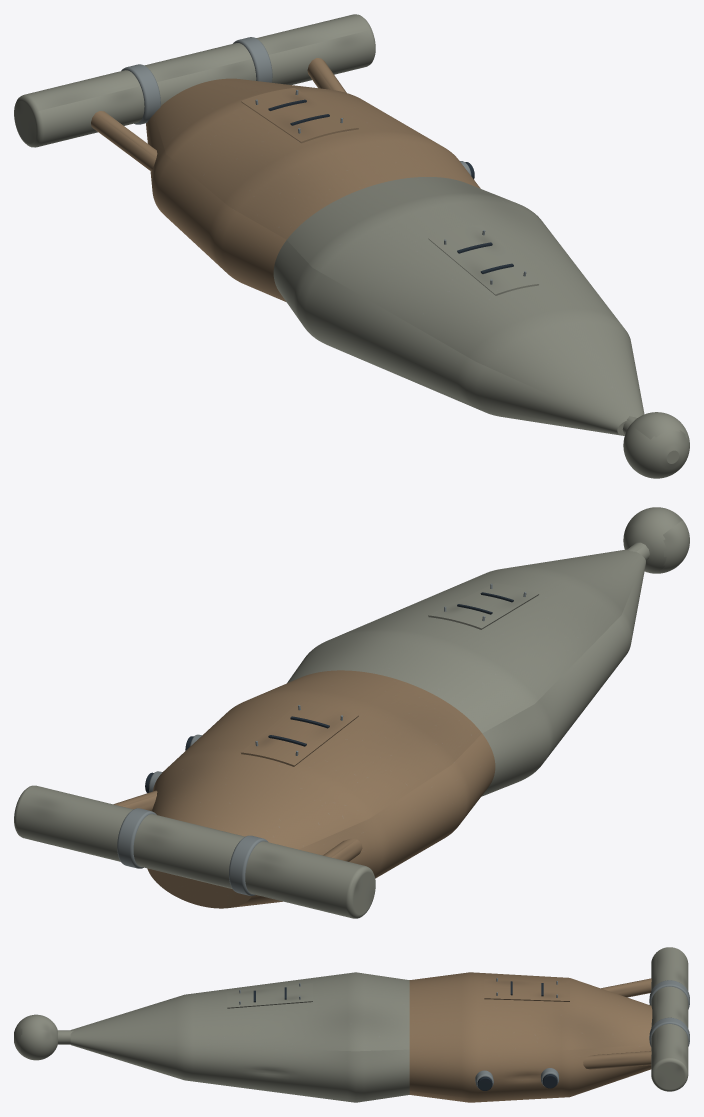
The picture shows the model from 3 angles, top to bottom: view 1: azimuth 30°, elevation 25°; view 2: azimuth 150°, elevation 25°; view 3: azimuth 270°, elevation 25°; orthographic projection. The views are drawn at different scales.
Visible parts, largest first — view 1: Napalm low front shell, Napalm bronze rear shell, Napalm transverse rail segment 0, Napalm transverse rail segment 2, Napalm service cover 0, Napalm spherical forward tip, Napalm transverse rail segment 1, Napalm service cover 1, Napalm side frame -1, Napalm transverse rail collar 0, Napalm transverse rail collar 1, Napalm side frame 1; view 2: Napalm bronze rear shell, Napalm low front shell, Napalm transverse rail segment 0, Napalm transverse rail segment 2, Napalm transverse rail segment 1, Napalm service cover 1, Napalm spherical forward tip, Napalm service cover 0, Napalm transverse rail collar 0, Napalm transverse rail collar 1; view 3: Napalm low front shell, Napalm bronze rear shell, Napalm transverse rail segment 2, Napalm service cover 1, Napalm spherical forward tip, Napalm service cover 0, Napalm transverse rail segment 0, Napalm transverse rail segment 1, Napalm side frame 1, Napalm side frame -1, Napalm transverse rail collar 1, Napalm transverse rail collar 0.
Part boxes in pixels (box(x1,y1,x2,y2)): Napalm low front shell: box(273, 177, 644, 435); Napalm bronze rear shell: box(146, 78, 480, 301); Napalm transverse rail segment 0: box(14, 70, 144, 147); Napalm transverse rail segment 2: box(256, 14, 375, 84); Napalm service cover 0: box(428, 225, 538, 295); Napalm spherical forward tip: box(623, 412, 689, 478); Napalm transverse rail segment 1: box(144, 43, 256, 105); Napalm service cover 1: box(241, 88, 358, 143); Napalm side frame -1: box(91, 111, 157, 171); Napalm transverse rail collar 0: box(121, 64, 160, 124); Napalm transverse rail collar 1: box(233, 37, 272, 82); Napalm side frame 1: box(307, 58, 346, 92); Napalm bronze rear shell: box(147, 670, 495, 908); Napalm low front shell: box(287, 549, 645, 796); Napalm transverse rail segment 0: box(245, 841, 375, 918); Napalm transverse rail segment 2: box(14, 785, 133, 861); Napalm transverse rail segment 1: box(133, 814, 244, 888); Napalm service cover 1: box(241, 701, 358, 766); Napalm spherical forward tip: box(623, 507, 689, 573); Napalm service cover 0: box(428, 583, 538, 629); Napalm transverse rail collar 0: box(229, 835, 268, 895); Napalm transverse rail collar 1: box(117, 808, 156, 868); Napalm low front shell: box(70, 972, 409, 1102); Napalm bronze rear shell: box(409, 972, 652, 1102); Napalm transverse rail segment 2: box(651, 1024, 688, 1091); Napalm service cover 1: box(484, 979, 569, 1001); Napalm spherical forward tip: box(14, 1014, 57, 1060); Napalm service cover 0: box(227, 983, 312, 1008); Napalm transverse rail segment 0: box(651, 947, 688, 990); Napalm transverse rail segment 1: box(651, 986, 688, 1028); Napalm side frame 1: box(583, 1051, 651, 1069); Napalm side frame -1: box(601, 978, 651, 997); Napalm transverse rail collar 1: box(649, 1017, 689, 1046); Napalm transverse rail collar 0: box(649, 980, 689, 1009).
Bounding box in the file's own units: 0.94 × 0.3939 × 2.37.
Materials: 4 (2 with a texture image).
